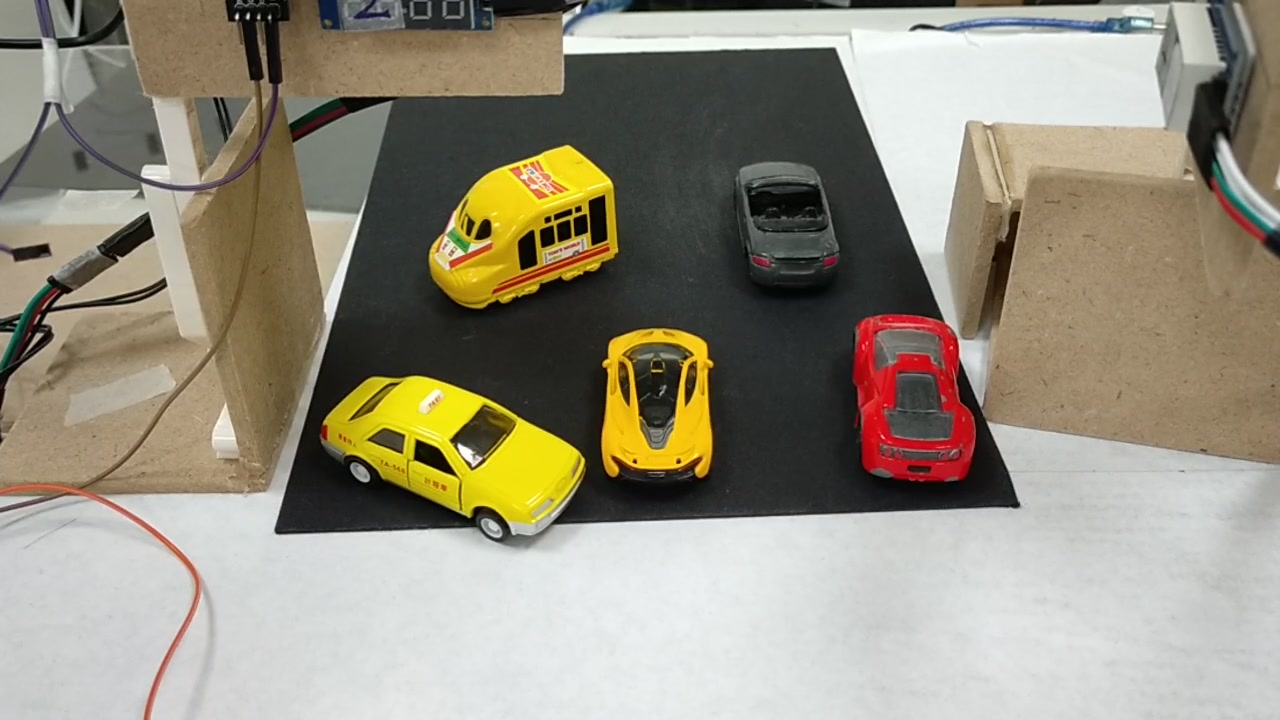car: (319, 377, 580, 530), (851, 305, 974, 478), (603, 332, 712, 479), (735, 163, 842, 280)
